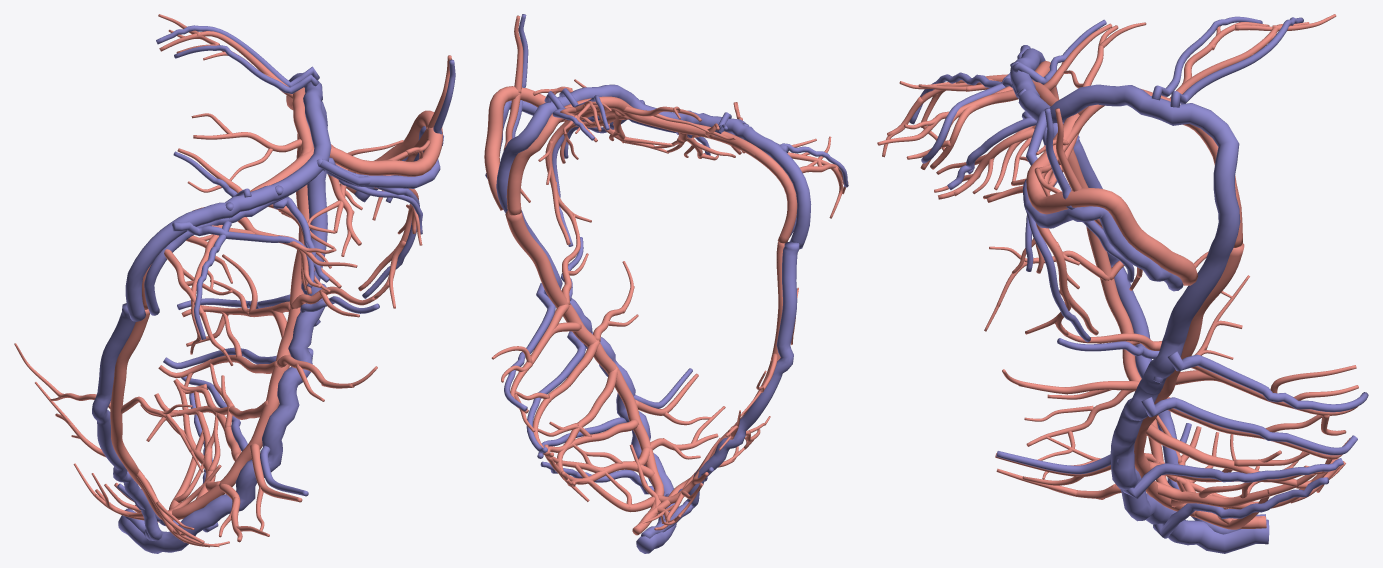
Rendered from vessels_6.glb.
3 views of the same model, side by side, from view 1: azimuth 30°, elevation 25°; view 2: azimuth 150°, elevation 25°; view 3: azimuth 270°, elevation 25° (orthographic). The views are drawn at different scales.
Visible parts, largest first — view 1: Renderer Node; view 2: Renderer Node; view 3: Renderer Node.
Boxes of the visible parts, left/top/right/bottom form: Renderer Node: left=14, top=14, right=455, bottom=553; Renderer Node: left=484, top=14, right=848, bottom=553; Renderer Node: left=877, top=14, right=1368, bottom=553.
Size of the model in its own units: 90.62 by 117 by 90.41.
